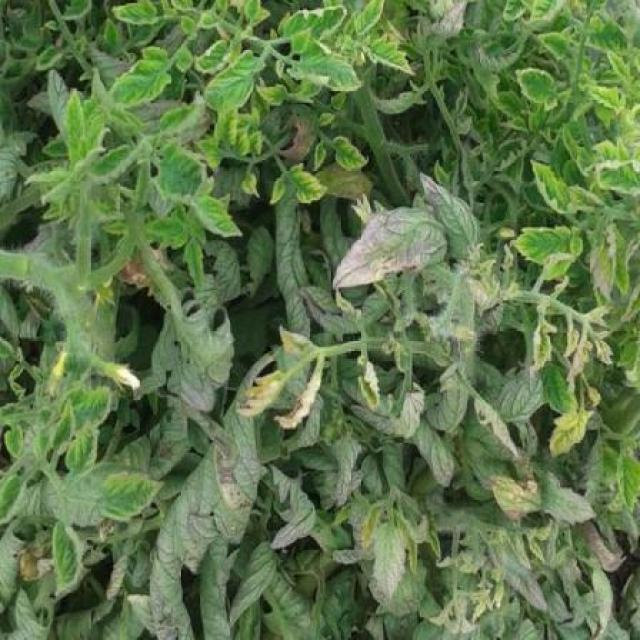Yellow Leaf Curl Virus: (513, 224, 584, 284), (105, 45, 172, 108), (152, 143, 217, 206), (202, 53, 267, 116), (96, 468, 168, 522), (293, 53, 366, 96), (527, 160, 577, 217), (48, 516, 83, 597), (278, 4, 348, 44), (513, 67, 567, 112), (188, 194, 242, 237), (364, 32, 414, 77), (62, 426, 104, 478), (62, 88, 88, 168), (290, 162, 330, 205), (331, 135, 369, 172), (352, 0, 388, 37), (587, 84, 627, 117), (111, 0, 159, 26)
